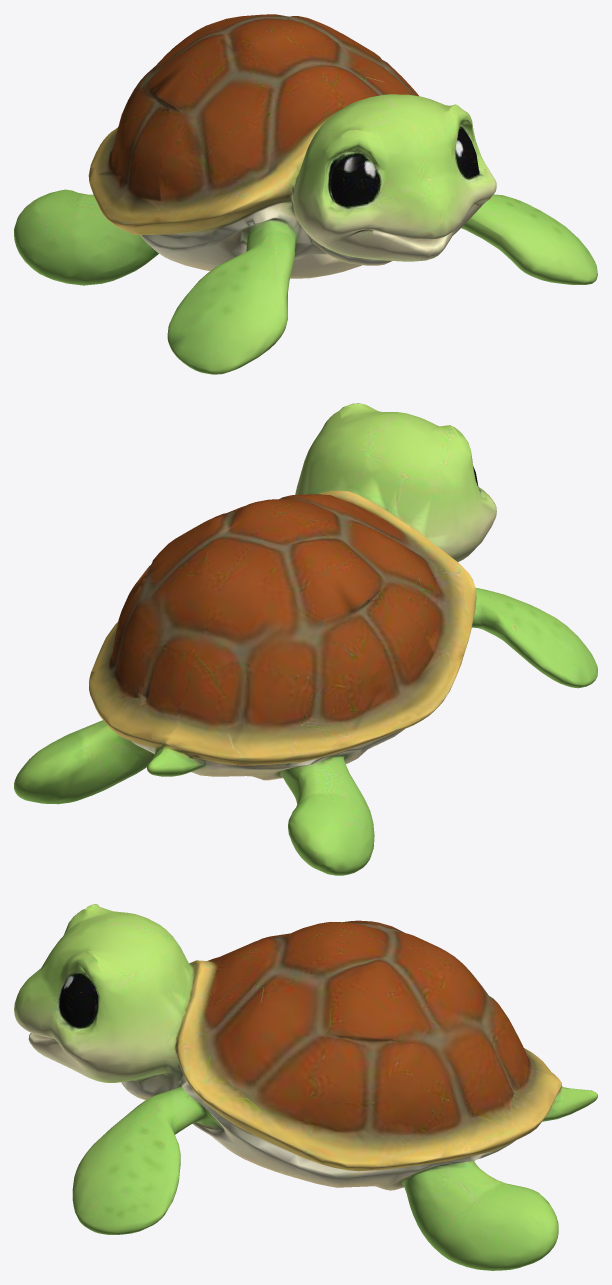
File: turtle.glb
3 views of the same model, one above another, from view 1: azimuth 30°, elevation 25°; view 2: azimuth 150°, elevation 25°; view 3: azimuth 270°, elevation 25° (orthographic).
Bounding box in the file's own units: 1.54 × 0.9837 × 1.9.
Materials: 1 (1 with a texture image).
